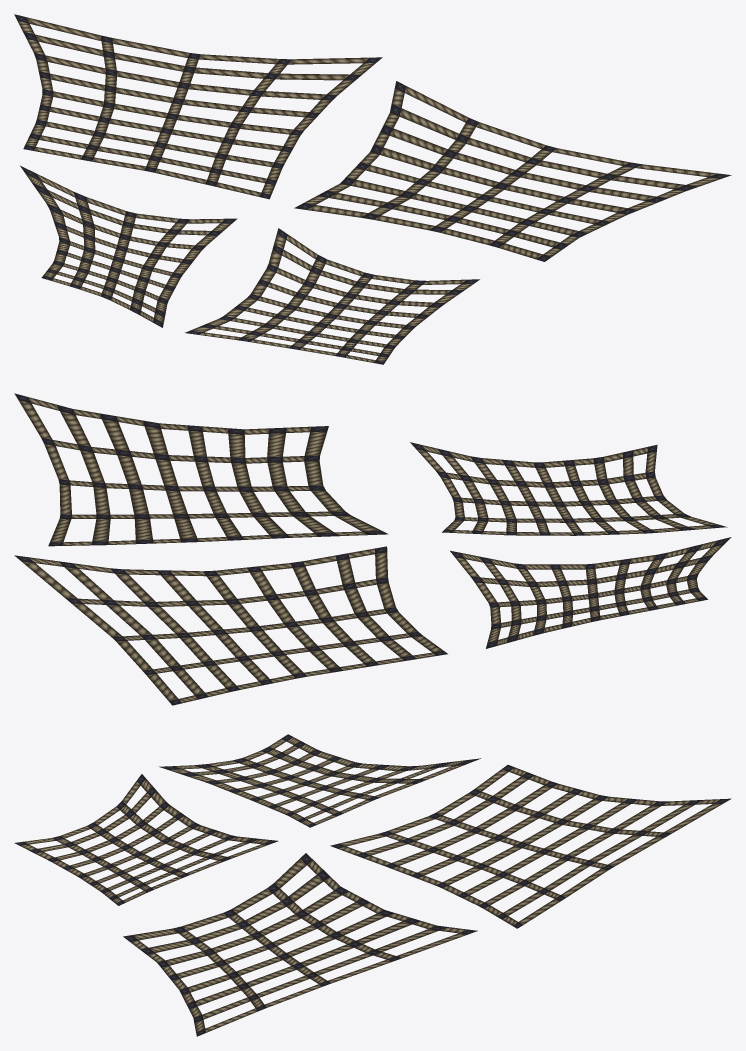
File: yw_bingyuan_wangqiao_002.FBX
3 views of the same model, one above another, from view 1: azimuth 30°, elevation 25°; view 2: azimuth 150°, elevation 25°; view 3: azimuth 270°, elevation 25° (orthographic). The views are drawn at different scales.
Visible parts, largest first — view 1: yw_bingyuan_wangqiao_002; view 2: yw_bingyuan_wangqiao_002; view 3: yw_bingyuan_wangqiao_002.
Part boxes in pixels (left/top/right/bottom): yw_bingyuan_wangqiao_002: left=14, top=14, right=731, bottom=364; yw_bingyuan_wangqiao_002: left=14, top=393, right=731, bottom=705; yw_bingyuan_wangqiao_002: left=14, top=734, right=731, bottom=1036.
Size of the model in its own units: 24.81 by 26.24 by 2.41.
